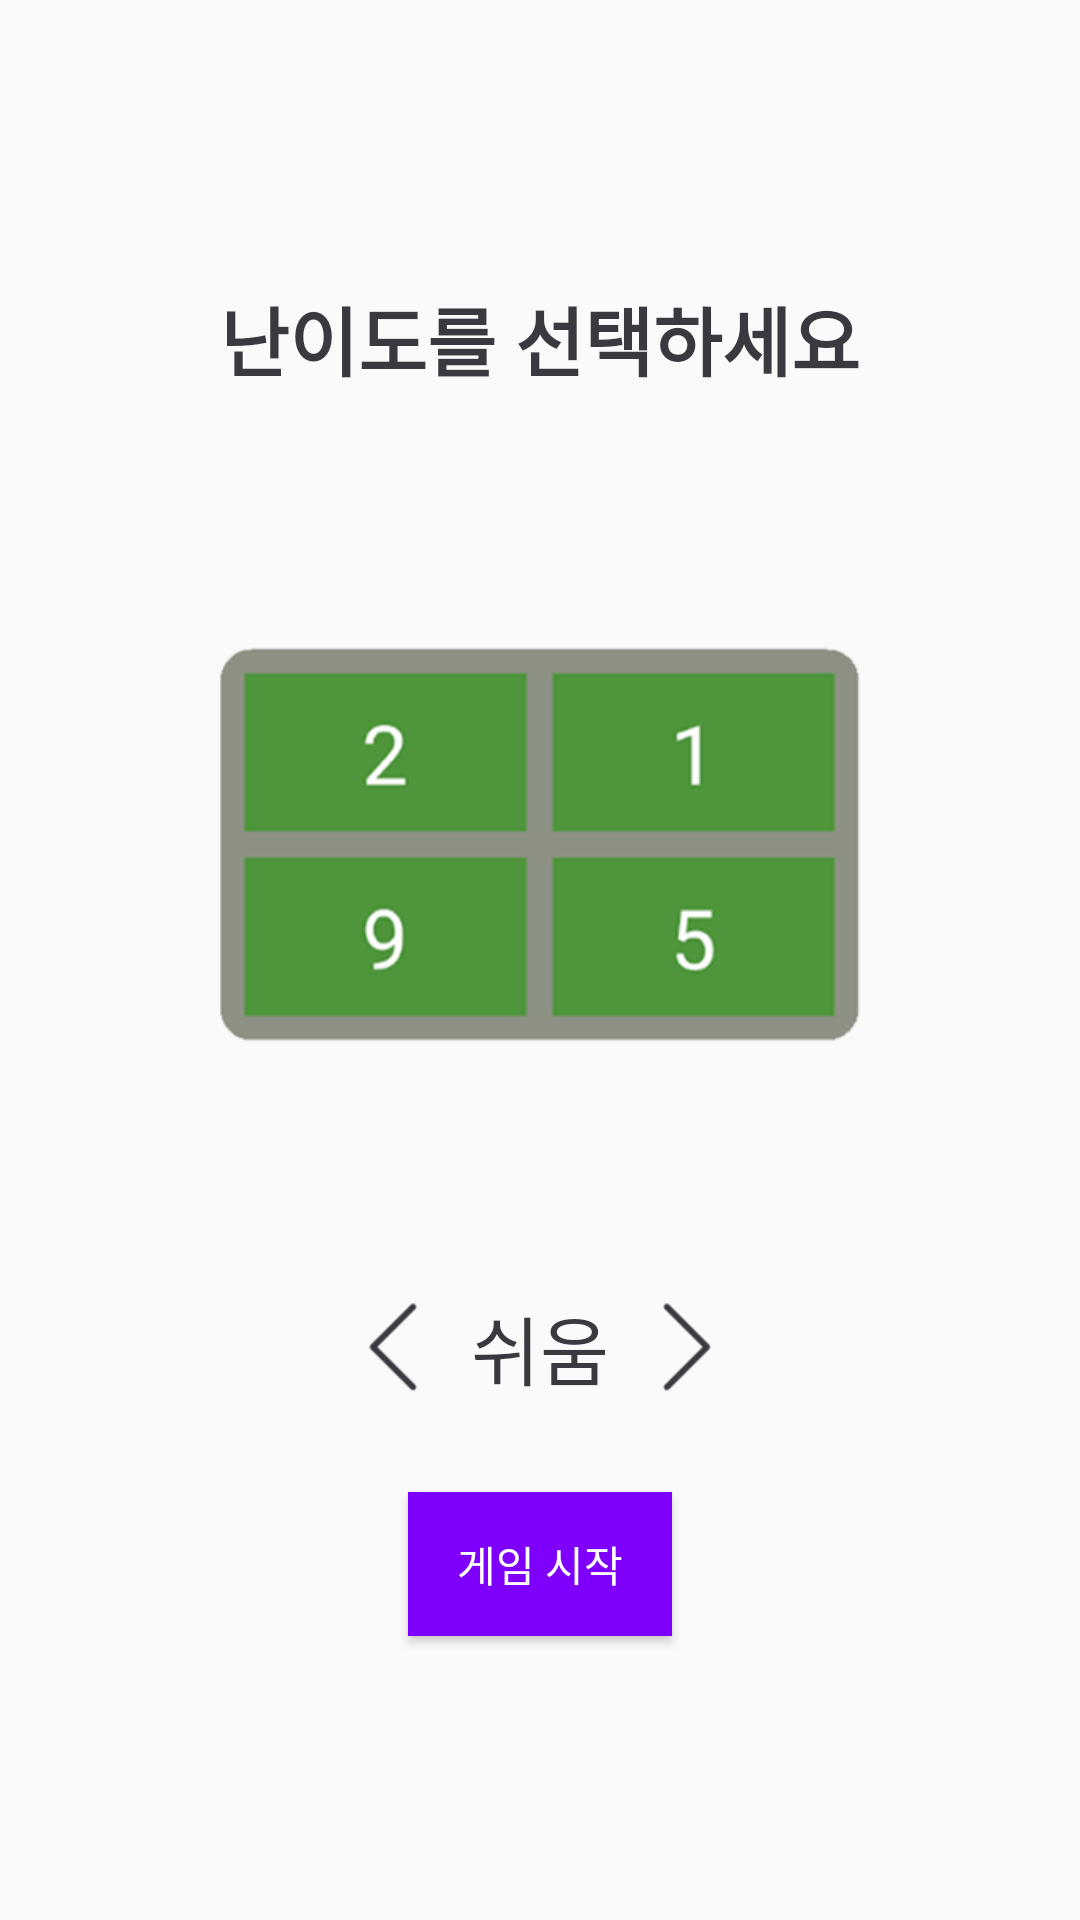

Screen size 1080*1920. Icon name, then its box in pixels as (x1, y1, x2, y2):
leftpoint: (369, 1303, 417, 1391)
rightpoint: (663, 1303, 711, 1391)
